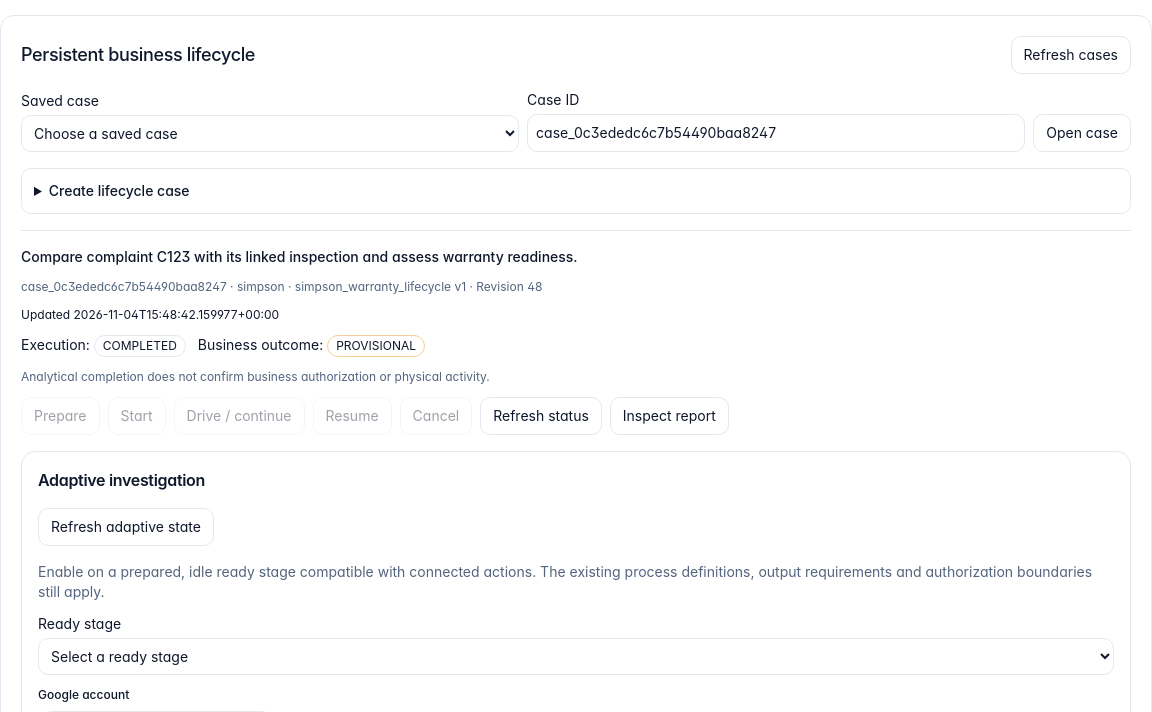
Scenario: persistent lifecycle presentation › reopens server state and retrieves the qualified report
Expected: the text "Revision 48" is shown, [21,279,542,294]
Expected: the text "Analytical completion does not confirm" is shown, [21,369,490,384]
Click the button "Inspect report" at (669, 416), box [610,397,729,435]
(page scrolled)
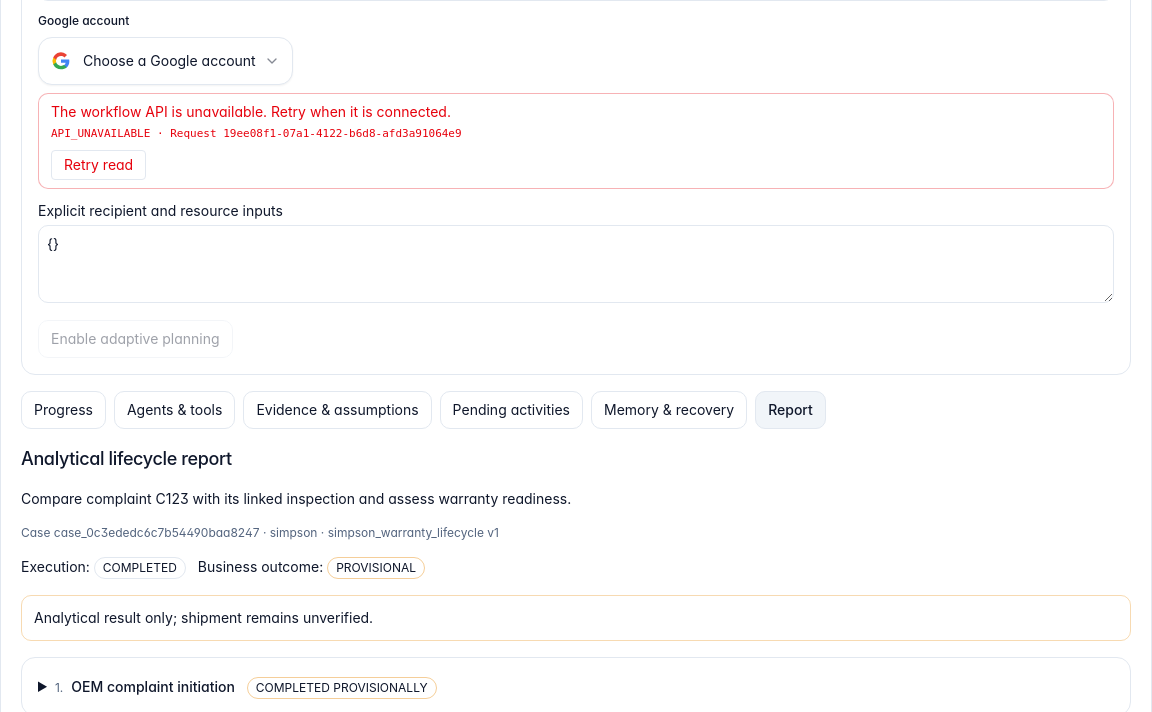
Expected: the heading "Analytical lifecycle report" is shown, [21,448,232,469]
